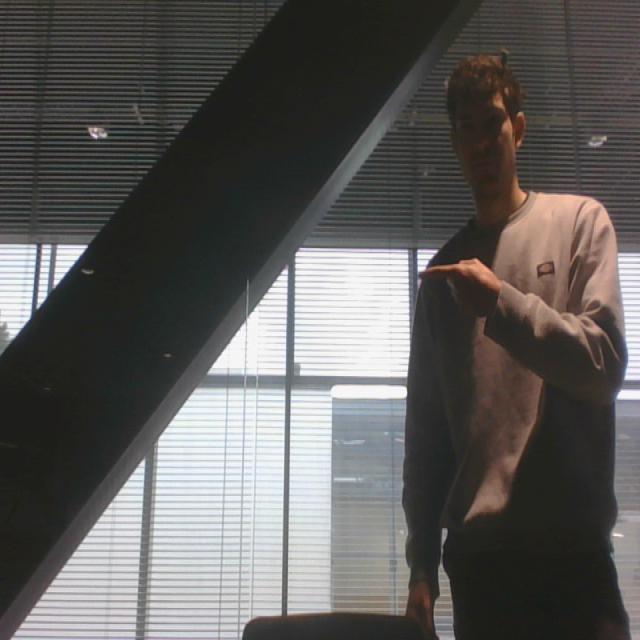left: (414, 253, 506, 324)
